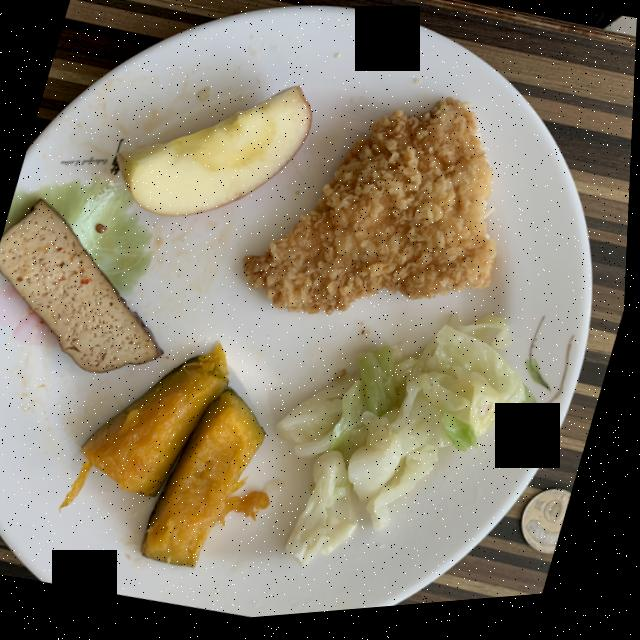apple -sliced-: (117, 91, 312, 219)
cabbage: (279, 324, 528, 571)
coin: (525, 498, 576, 563)
firm tofu: (0, 200, 165, 375)
fried chicken cutlet: (244, 105, 498, 320)
pumpkin: (63, 348, 274, 570)
